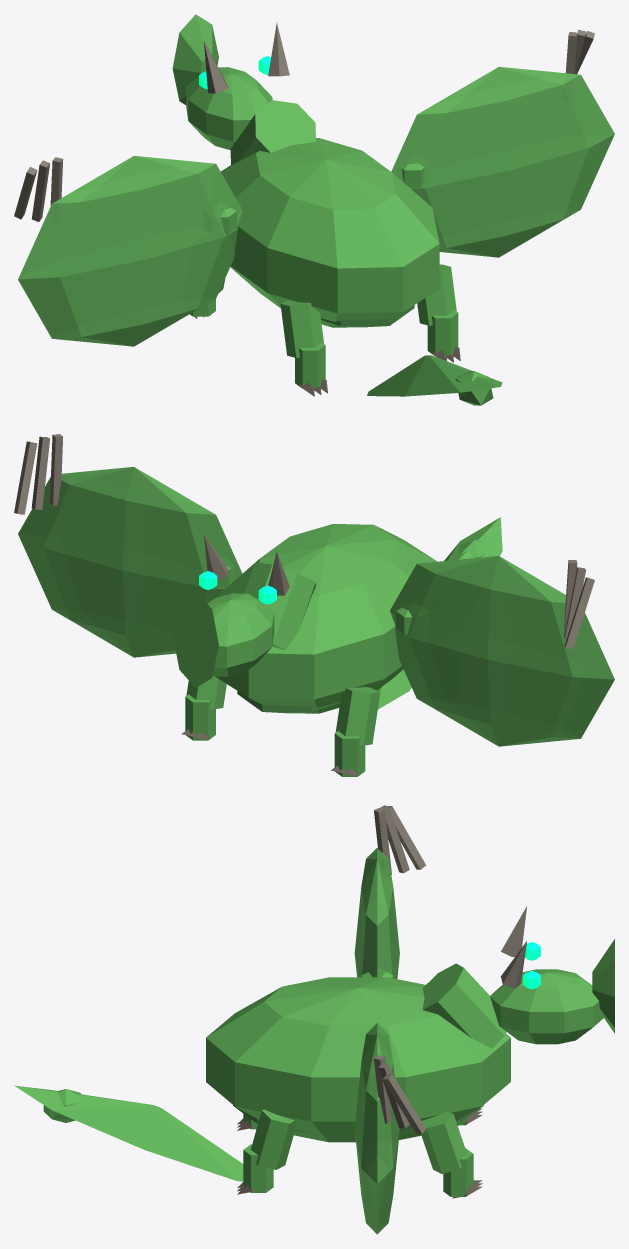
File: dragon_green.glb
3 views of the same model, one above another, from view 1: azimuth 30°, elevation 25°; view 2: azimuth 150°, elevation 25°; view 3: azimuth 270°, elevation 25° (orthographic).
Visible parts, largest first — view 1: dragon_body, wing_l, wing_r, head, tail; view 2: dragon_body, wing_l, wing_r, head, tail; view 3: dragon_body, tail, head, wing_r, wing_l.
Part boxes in pixels (left/top/right/bottom): dragon_body: left=14, top=14, right=594, bottom=405; wing_l: left=18, top=156, right=242, bottom=346; wing_r: left=391, top=66, right=614, bottom=257; head: left=186, top=67, right=272, bottom=150; tail: left=367, top=355, right=502, bottom=396; dragon_body: left=14, top=434, right=594, bottom=776; wing_l: left=390, top=556, right=614, bottom=746; wing_r: left=18, top=466, right=242, bottom=657; head: left=207, top=593, right=274, bottom=676; tail: left=377, top=517, right=502, bottom=709; dragon_body: left=43, top=805, right=614, bottom=1198; tail: left=14, top=1085, right=243, bottom=1181; head: left=490, top=969, right=603, bottom=1044; wing_r: left=354, top=1023, right=399, bottom=1234; wing_l: left=354, top=847, right=399, bottom=978.
Size of the model in its own units: 3.06 by 1.31 by 2.71.
